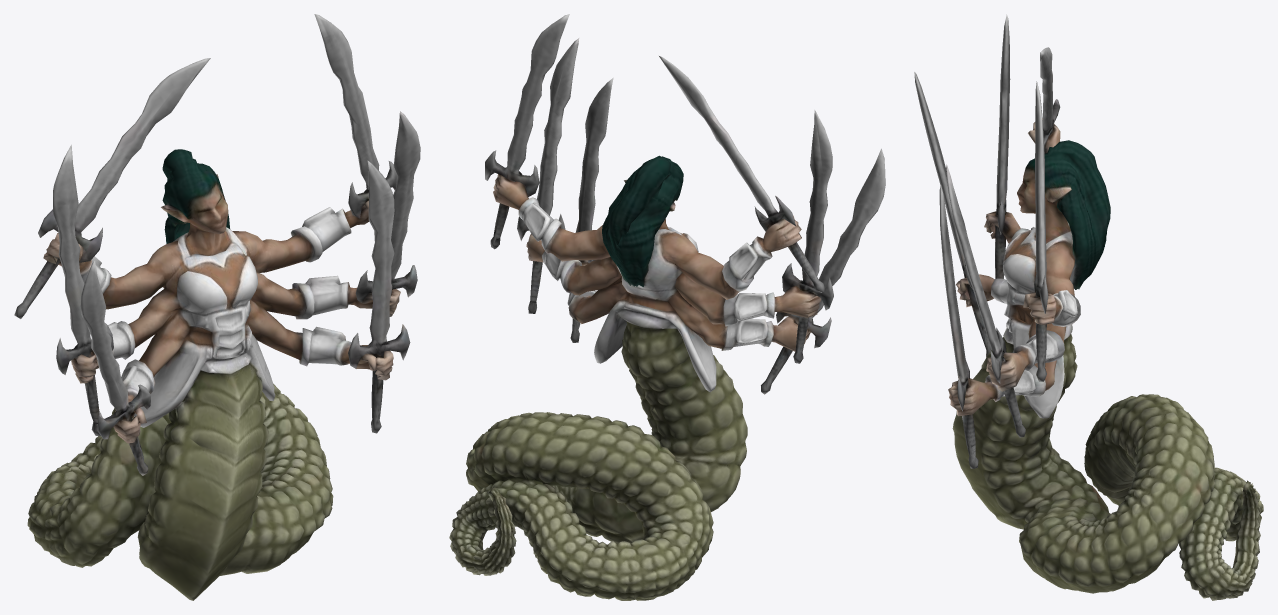
File: MZ4250 - Marilith.glb
The picture shows the model from 3 angles, left to right: view 1: azimuth 30°, elevation 25°; view 2: azimuth 150°, elevation 25°; view 3: azimuth 270°, elevation 25°; orthographic projection. The views are drawn at different scales.
Visible parts, largest first — view 1: gpmarilith01; view 2: gpmarilith01; view 3: gpmarilith01.
Boxes of the visible parts, bbox=[...] form: gpmarilith01: bbox=[14, 14, 420, 600]; gpmarilith01: bbox=[449, 14, 885, 600]; gpmarilith01: bbox=[914, 14, 1263, 600].
Size of the model in its own units: 0.9649 by 1.33 by 0.8107.
Materials: 1 (1 with a texture image).
